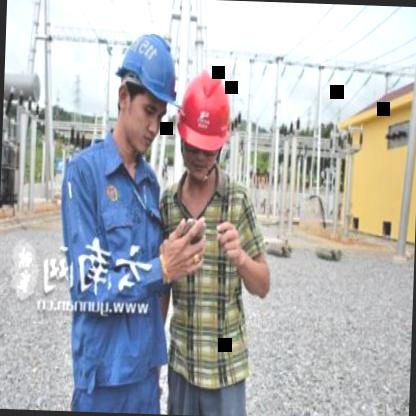helmet: (106, 20, 182, 158), (176, 60, 240, 192)
